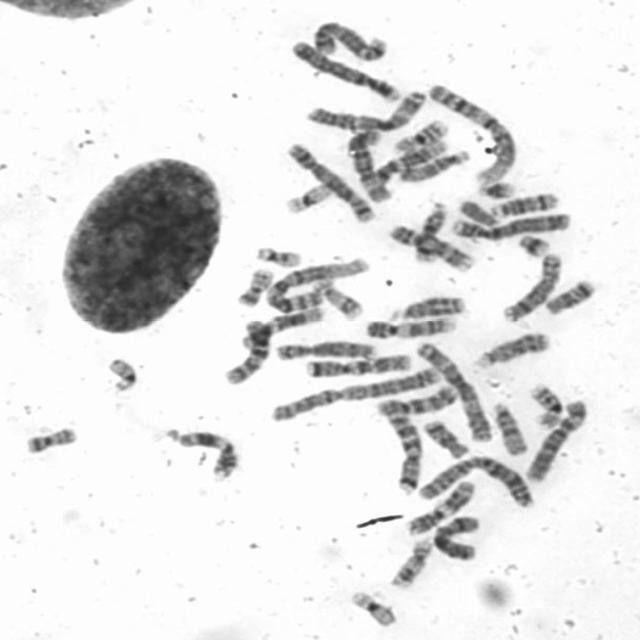A1: (426, 83, 517, 184), (261, 255, 371, 316)
A2: (266, 364, 443, 423), (415, 455, 535, 509)
A3: (414, 341, 495, 443), (306, 89, 426, 134)
B4: (289, 39, 402, 104), (450, 212, 574, 240)
B5: (284, 143, 377, 224), (312, 19, 388, 62)
C10: (223, 318, 273, 388), (375, 384, 458, 418)
C11: (403, 480, 476, 536), (178, 431, 240, 481)
C12: (362, 139, 448, 191), (238, 305, 324, 351)
C6: (521, 398, 591, 487), (345, 128, 394, 205)
C7: (378, 402, 424, 493), (303, 353, 413, 380)
C8: (498, 252, 561, 325), (276, 340, 378, 360)
C9: (385, 224, 476, 273), (362, 314, 461, 341)
D13: (472, 330, 553, 374), (386, 295, 466, 322)
D14: (410, 200, 449, 266), (488, 191, 559, 218)
D15: (396, 150, 474, 184), (490, 400, 530, 458)
E16: (391, 117, 451, 154), (524, 380, 564, 430)
E17: (387, 535, 433, 589), (313, 278, 365, 320)
E18: (542, 278, 598, 316), (422, 420, 470, 459)
F19: (344, 588, 404, 630), (283, 180, 334, 216)
F20: (236, 268, 276, 310), (24, 427, 80, 456)
G21: (515, 233, 555, 259), (475, 181, 521, 201)
G22: (254, 245, 305, 269), (108, 358, 140, 392)
X: (430, 515, 483, 563)
Y: (456, 200, 501, 228)
